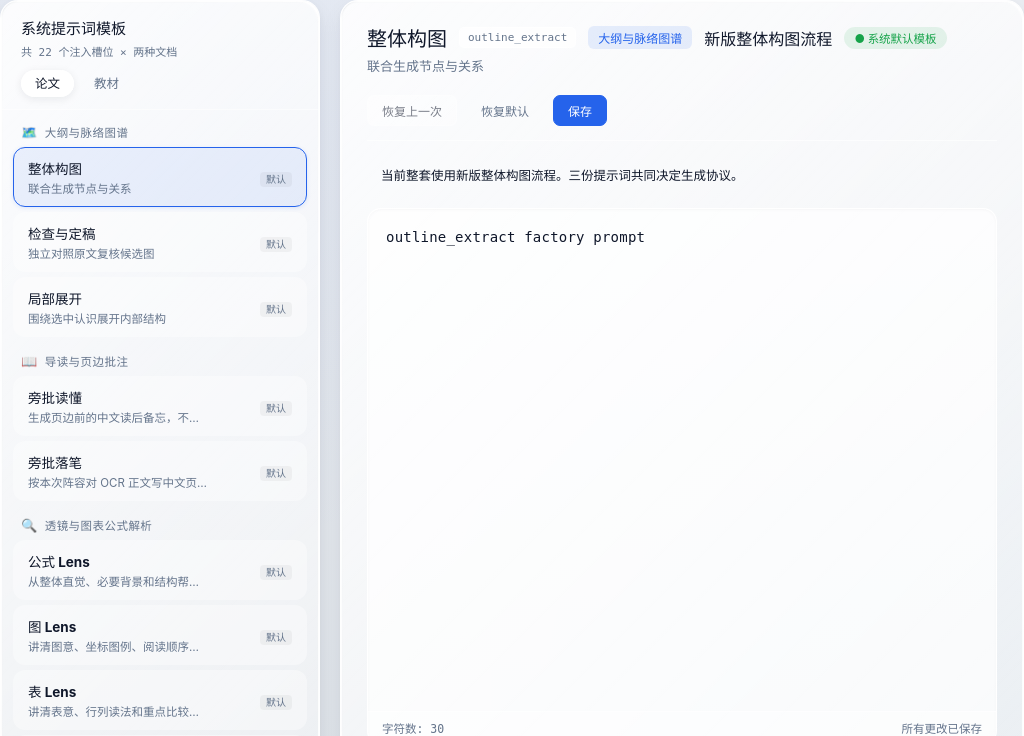
Test case: textbook learning artifacts › shows the actual textbook Brief protocol in prompt settings
The width and height of the screenshot is (1024, 736).
Click the tab "教材".
click(106, 84)  # box [80, 70, 133, 97]
(page scrolled)
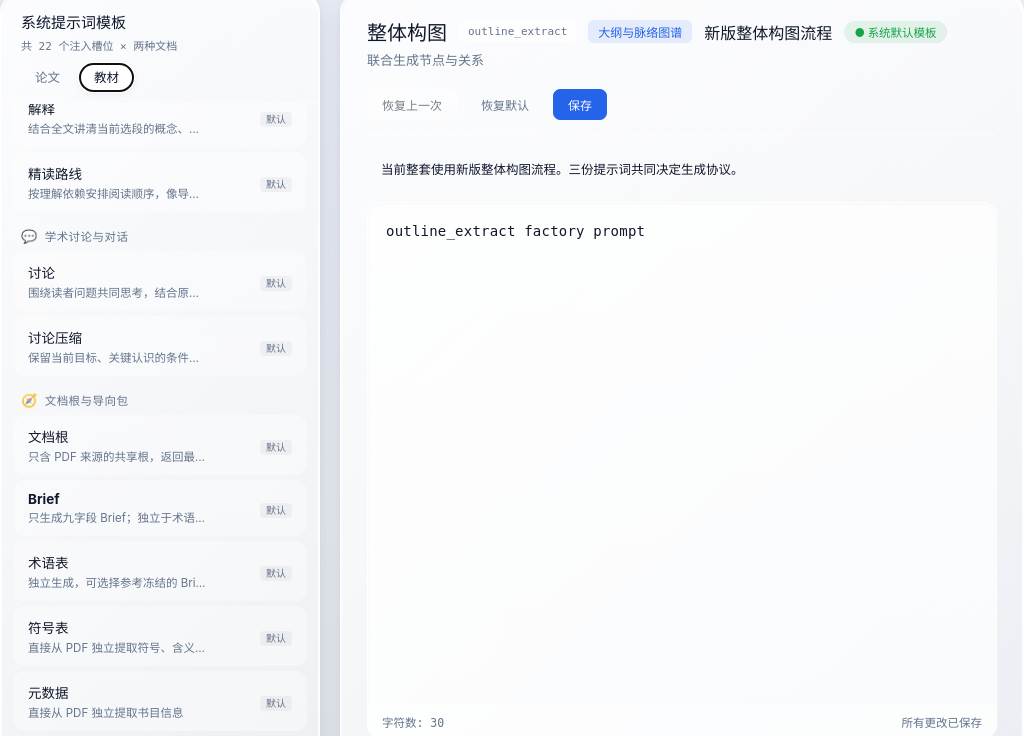
Click the button "Brief 只生成九字段 Brief；独立于术语、符号和元数据 默认".
click(160, 508)  # box [13, 480, 307, 536]
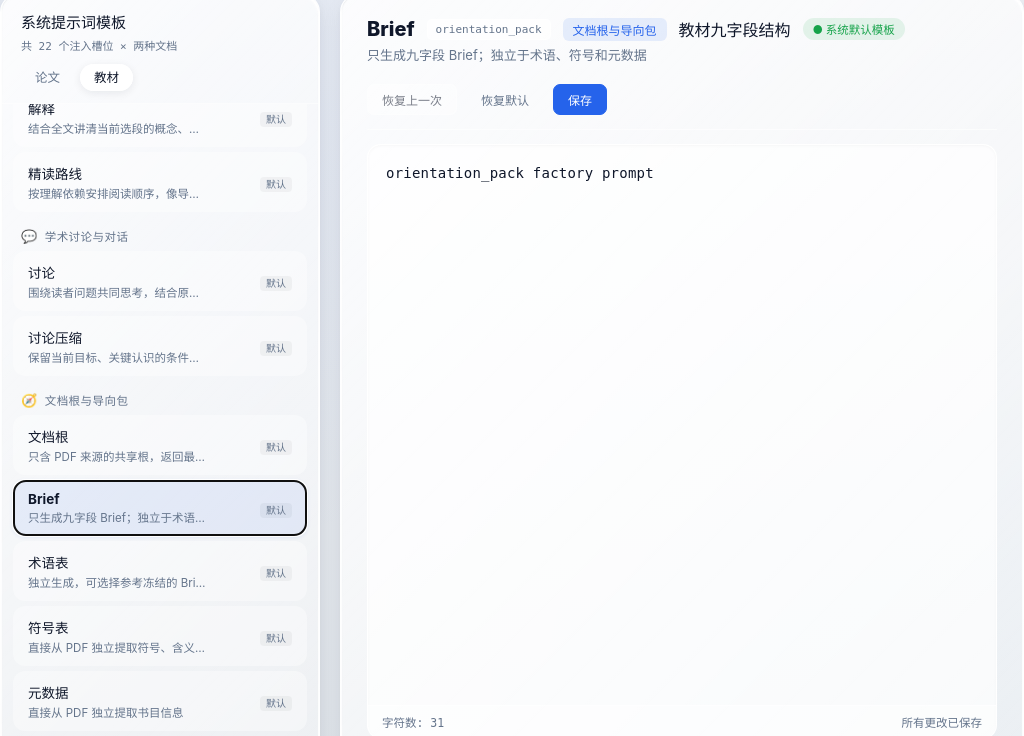
Check: the text named "教材输出结构" reads "教材九字段结构", box [679, 20, 791, 40]
